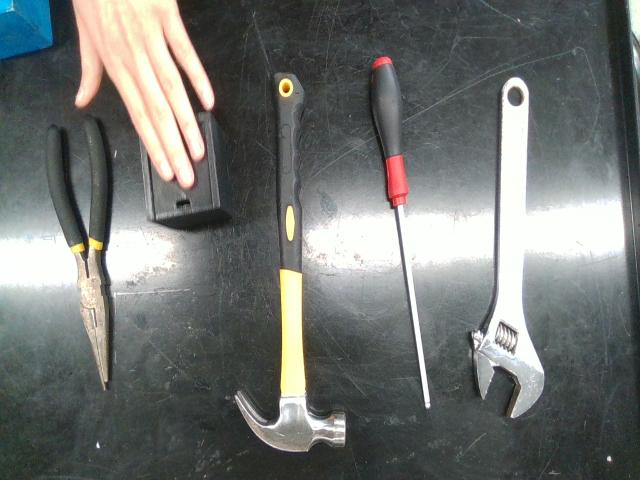Adjustable spanner: (471, 77, 544, 418)
Hammer: (235, 73, 346, 452)
Hand: (72, 0, 215, 189)
Needle-nose pliers: (46, 115, 110, 388)
Screwdriver: (371, 57, 430, 408)
